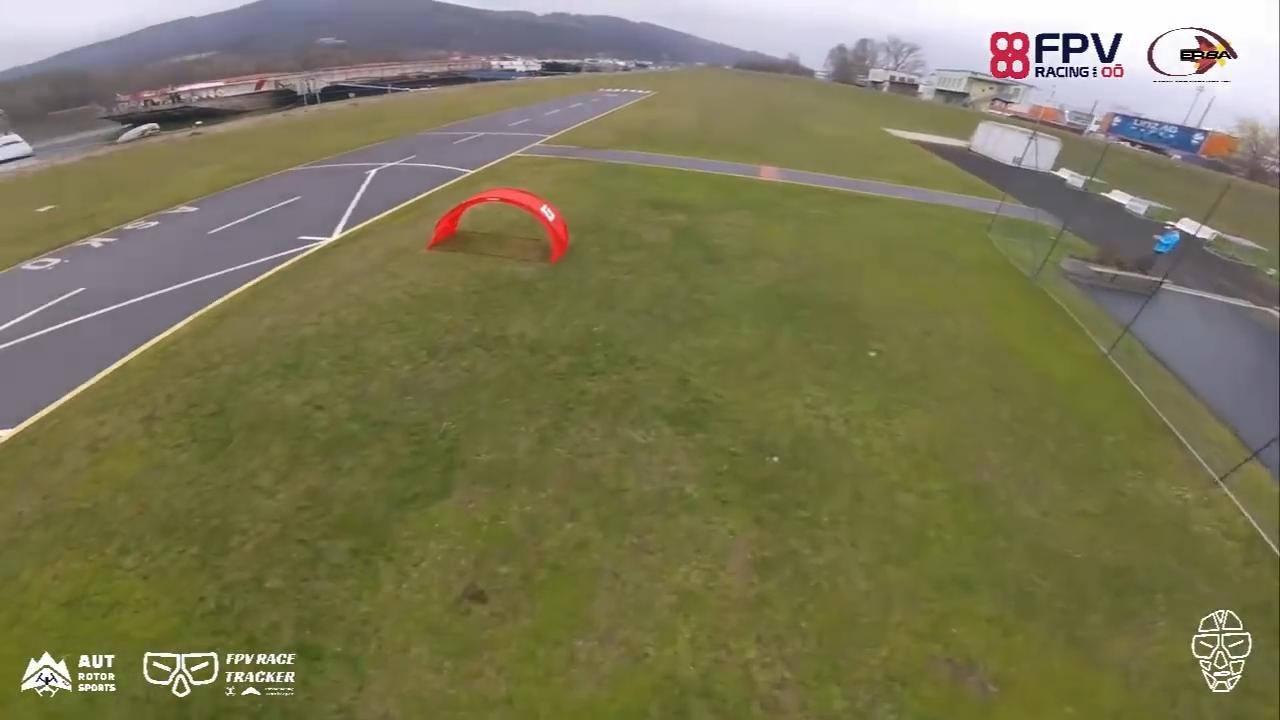gate: (424, 187, 572, 268)
